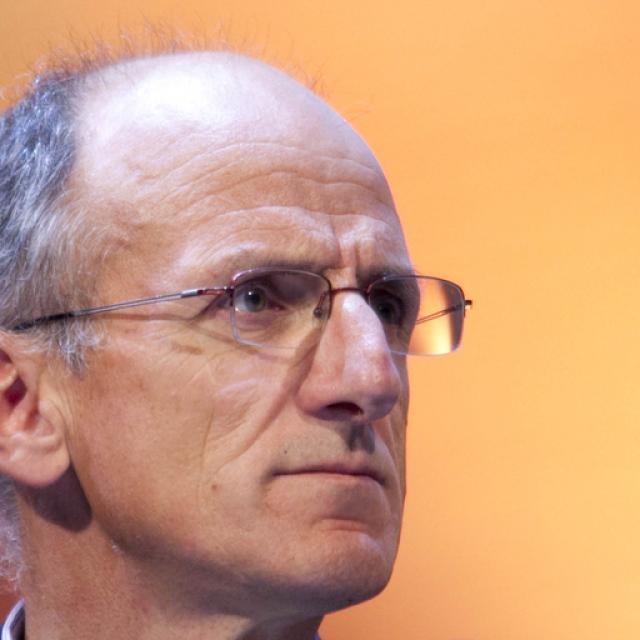anger: (69, 129, 415, 585)
